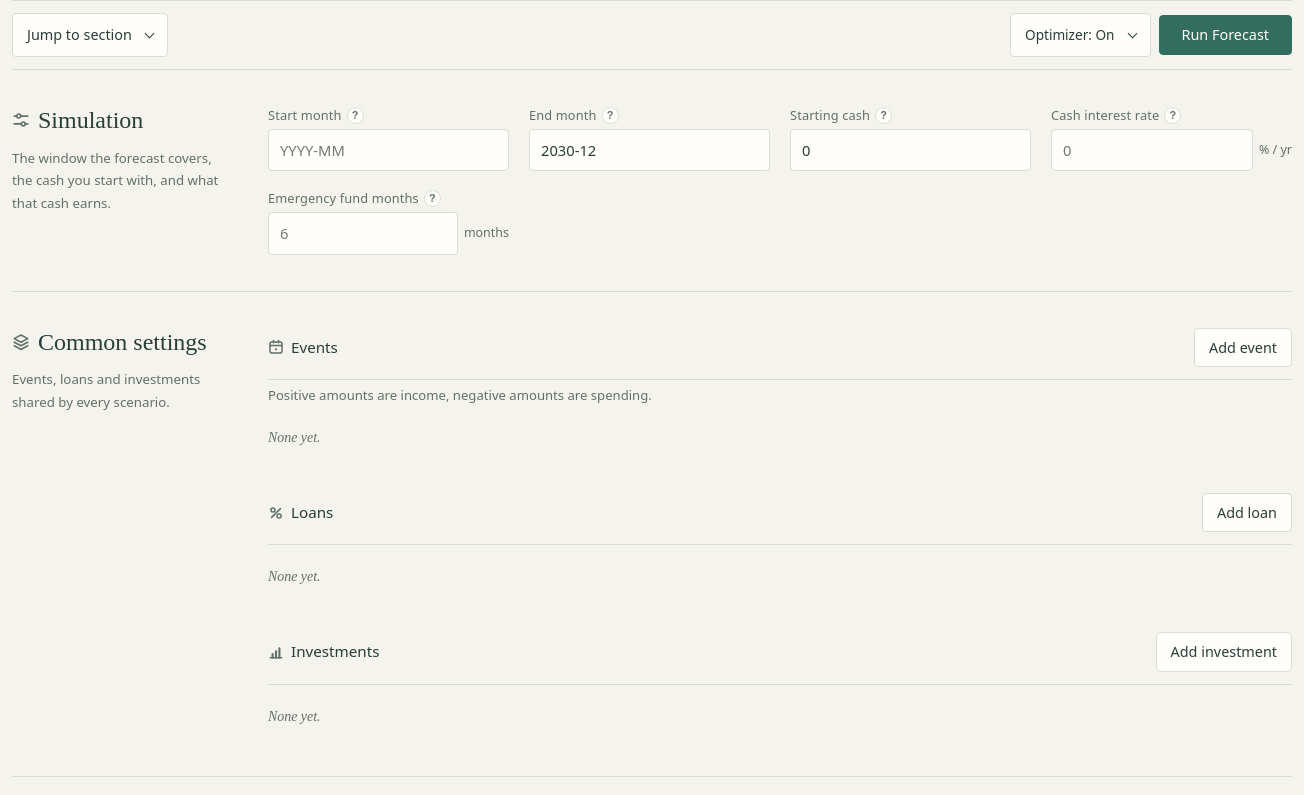
Test: finding optimized events › jumps to the optimized event and closes the list
Step 1. Click the button with class "optctl__list" → (1080,35), box top-left (1010, 13), bottom-right (1150, 57)
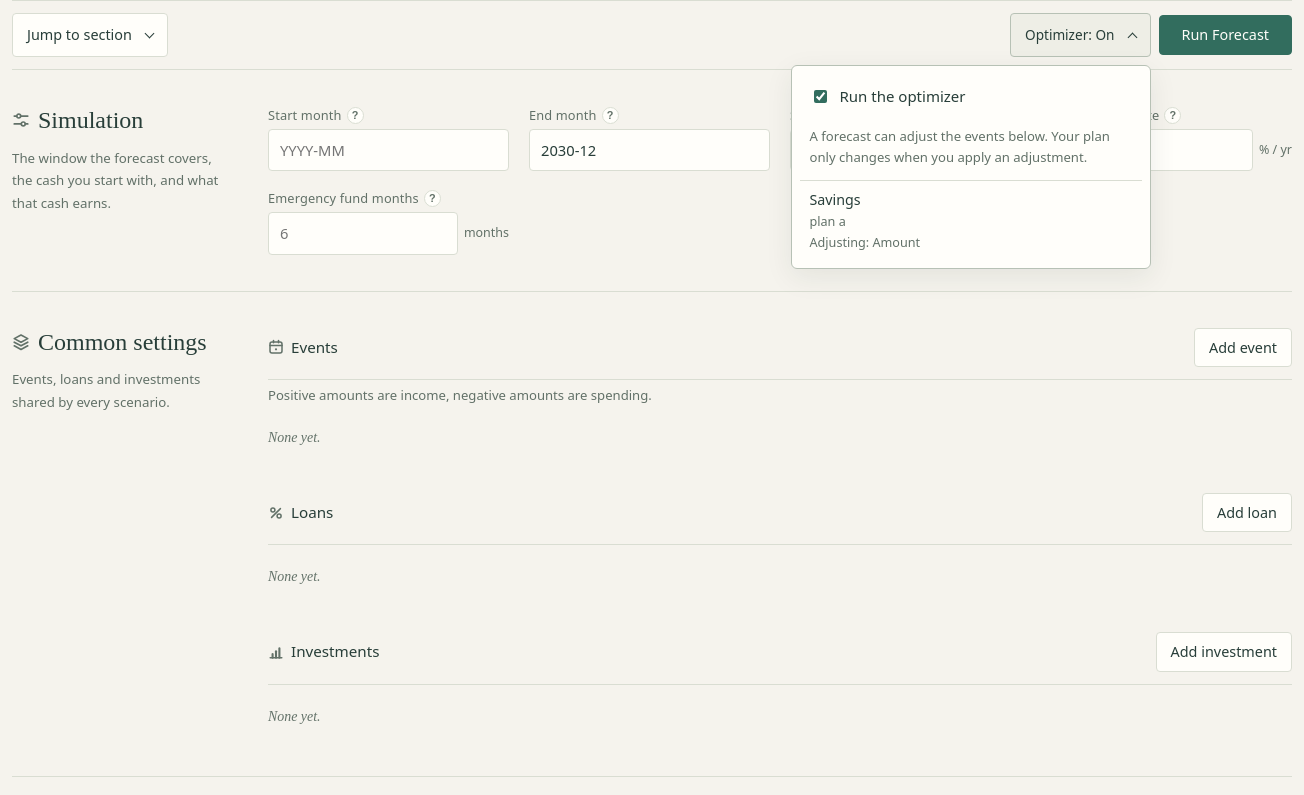
Step 2. Click the button with class "optctl__entry" → (835,200), box top-left (800, 181), bottom-right (1142, 260)
(page scrolled)
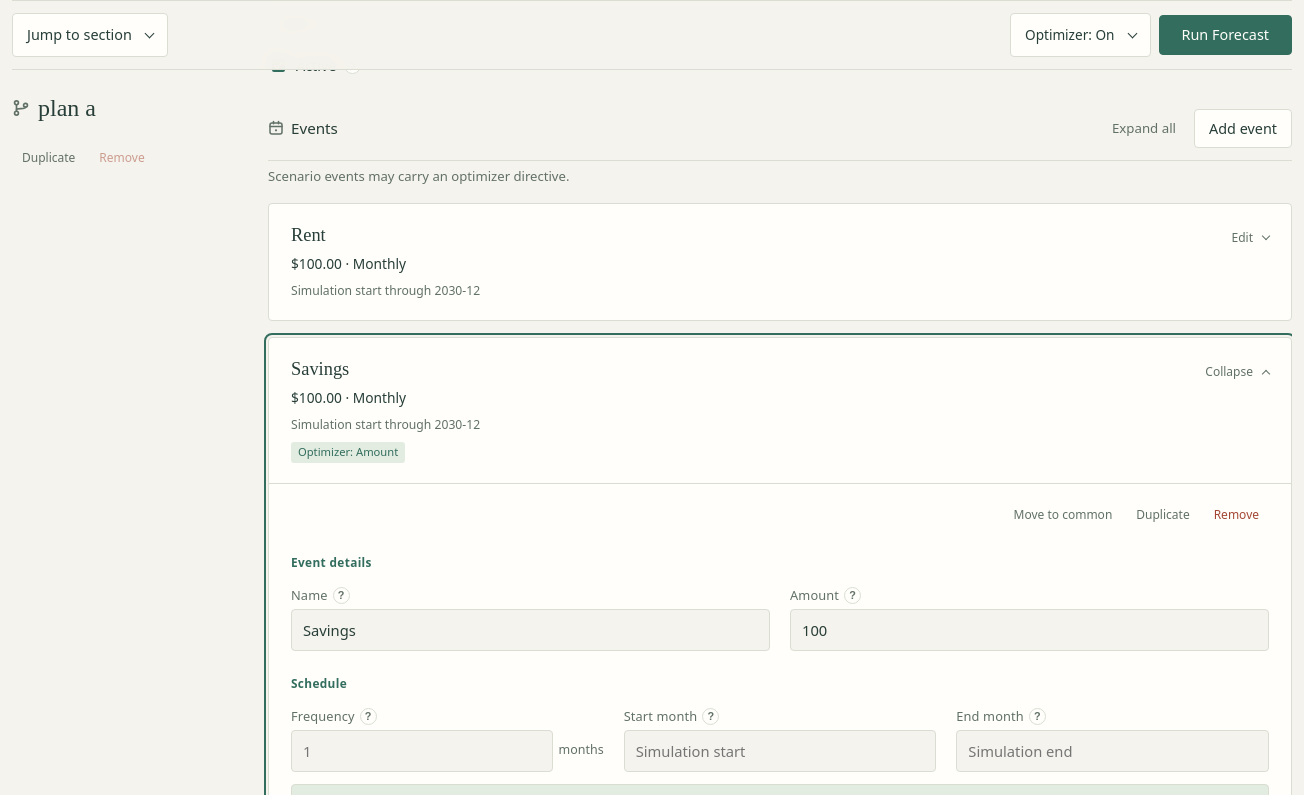
Now the element with class "optctl__panel" is gone
